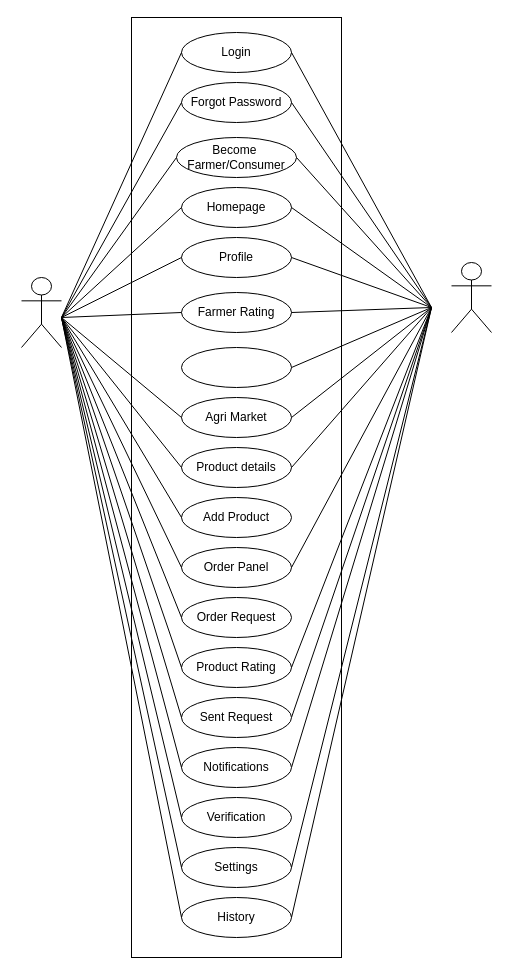
This 523x975 diagram has some shape labels left out. Here are the shapes that lost their labels. From the top down, the centre of each, then its label:
[41,312]: Farmer
[471,297]: Consumer
[236,367]: Switch to Farmer
